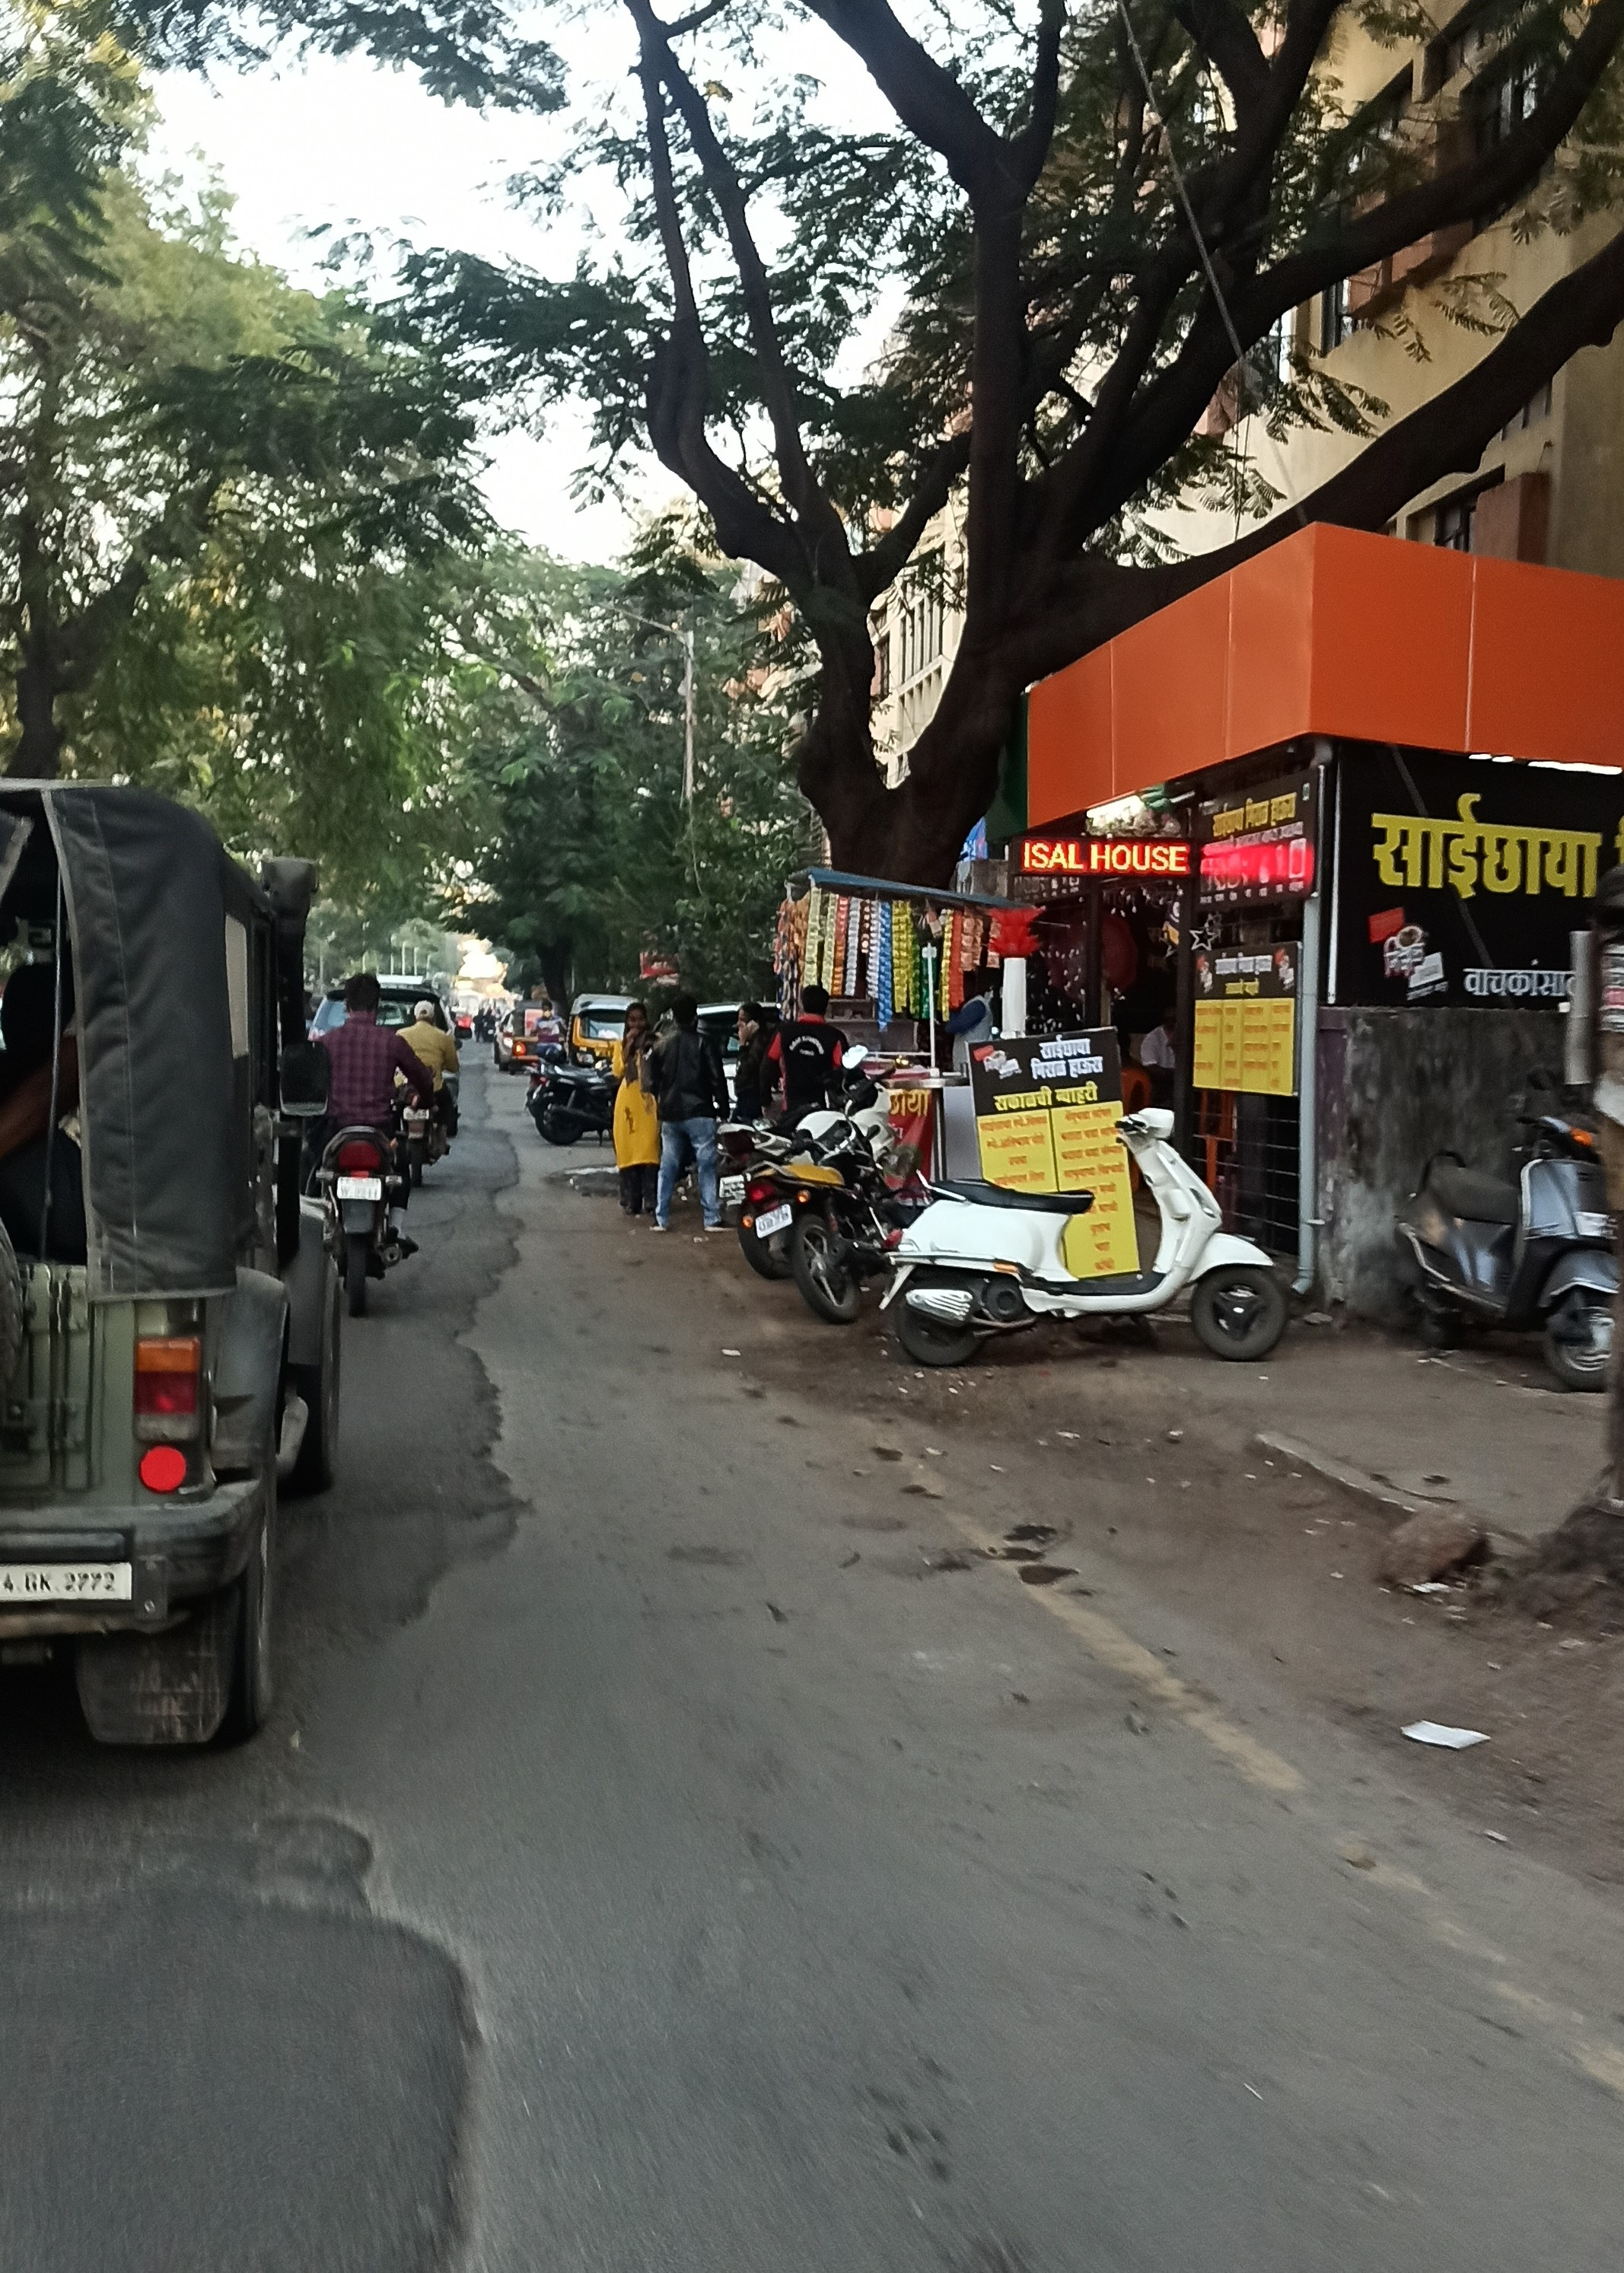Bike: (893, 1159, 1283, 1365), (1397, 1087, 1624, 1409), (740, 1128, 896, 1316), (315, 1112, 411, 1309)
